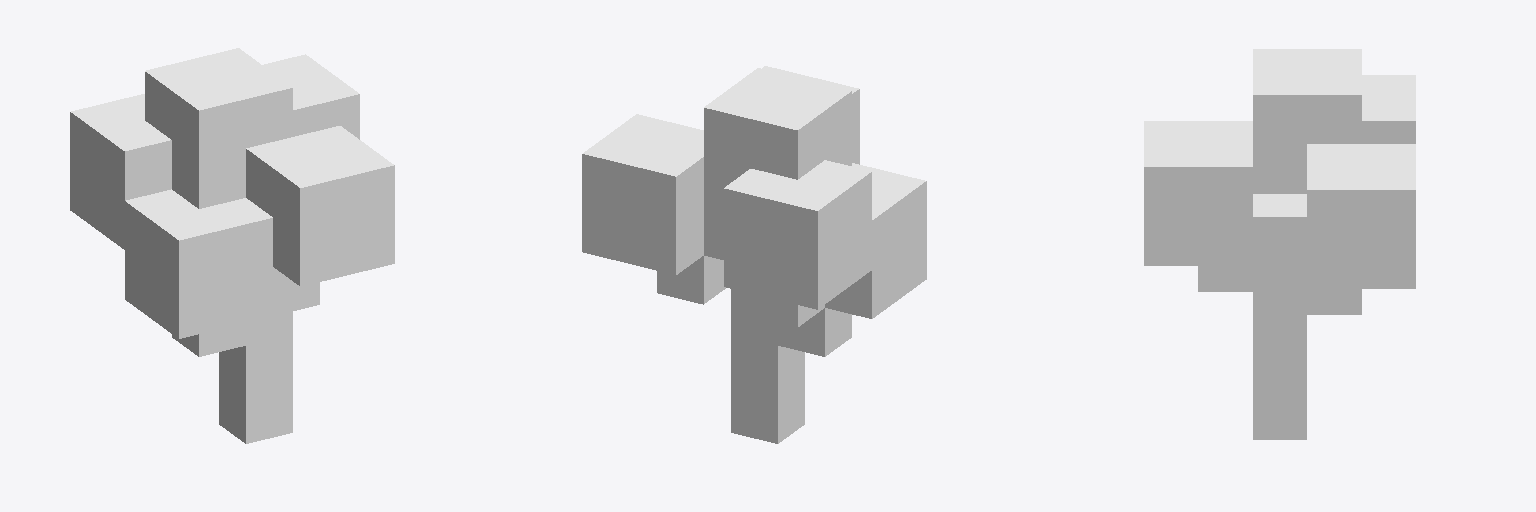
The model's file is Oak_tree.obj.
The picture shows the model from 3 angles: view 1: azimuth 30°, elevation 25°; view 2: azimuth 150°, elevation 25°; view 3: azimuth 270°, elevation 25°; orthographic projection.
Visible parts, largest first — view 1: Oak_tree; view 2: Oak_tree; view 3: Oak_tree.
Boxes of the visible parts, <box> form: Oak_tree: <box>70,48,394,443</box>; Oak_tree: <box>582,66,926,443</box>; Oak_tree: <box>1144,49,1415,439</box>.
Bounding box in the file's own units: 5 × 7 × 5.